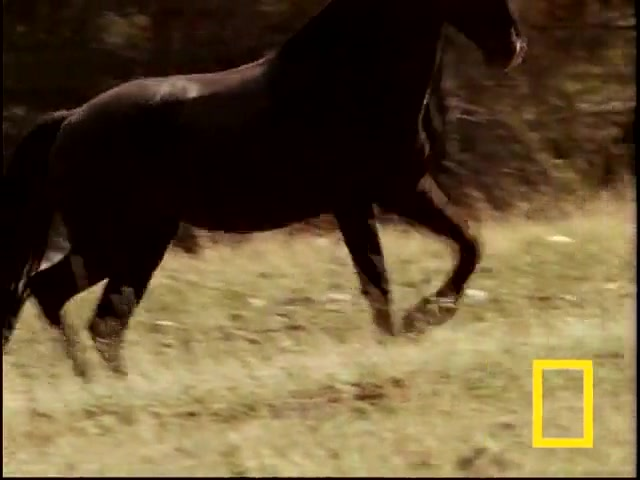horse: (3, 1, 528, 382)
